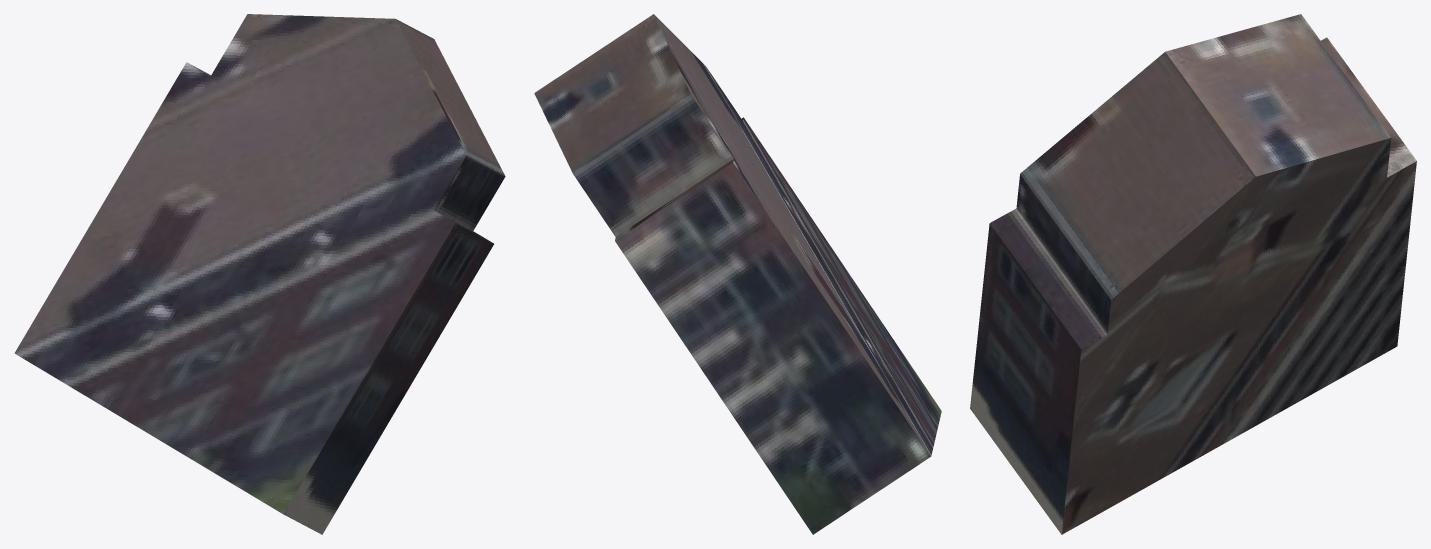
3 renders of one model, left to right at view 1: azimuth 30°, elevation 25°; view 2: azimuth 150°, elevation 25°; view 3: azimuth 270°, elevation 25°, orthographic. The views are drawn at different scales.
Parts seen in each view (by area): view 1: BAG_0599100000650057; view 2: BAG_0599100000650057; view 3: BAG_0599100000650057.
Boxes of the visible parts, x1=… form: BAG_0599100000650057: x1=14, y1=14, x2=505, y2=534; BAG_0599100000650057: x1=534, y1=14, x2=941, y2=534; BAG_0599100000650057: x1=970, y1=14, x2=1416, y2=534.
Size of the model in its own units: 17.38 by 18.49 by 13.57.
Materials: 2 (1 with a texture image).
